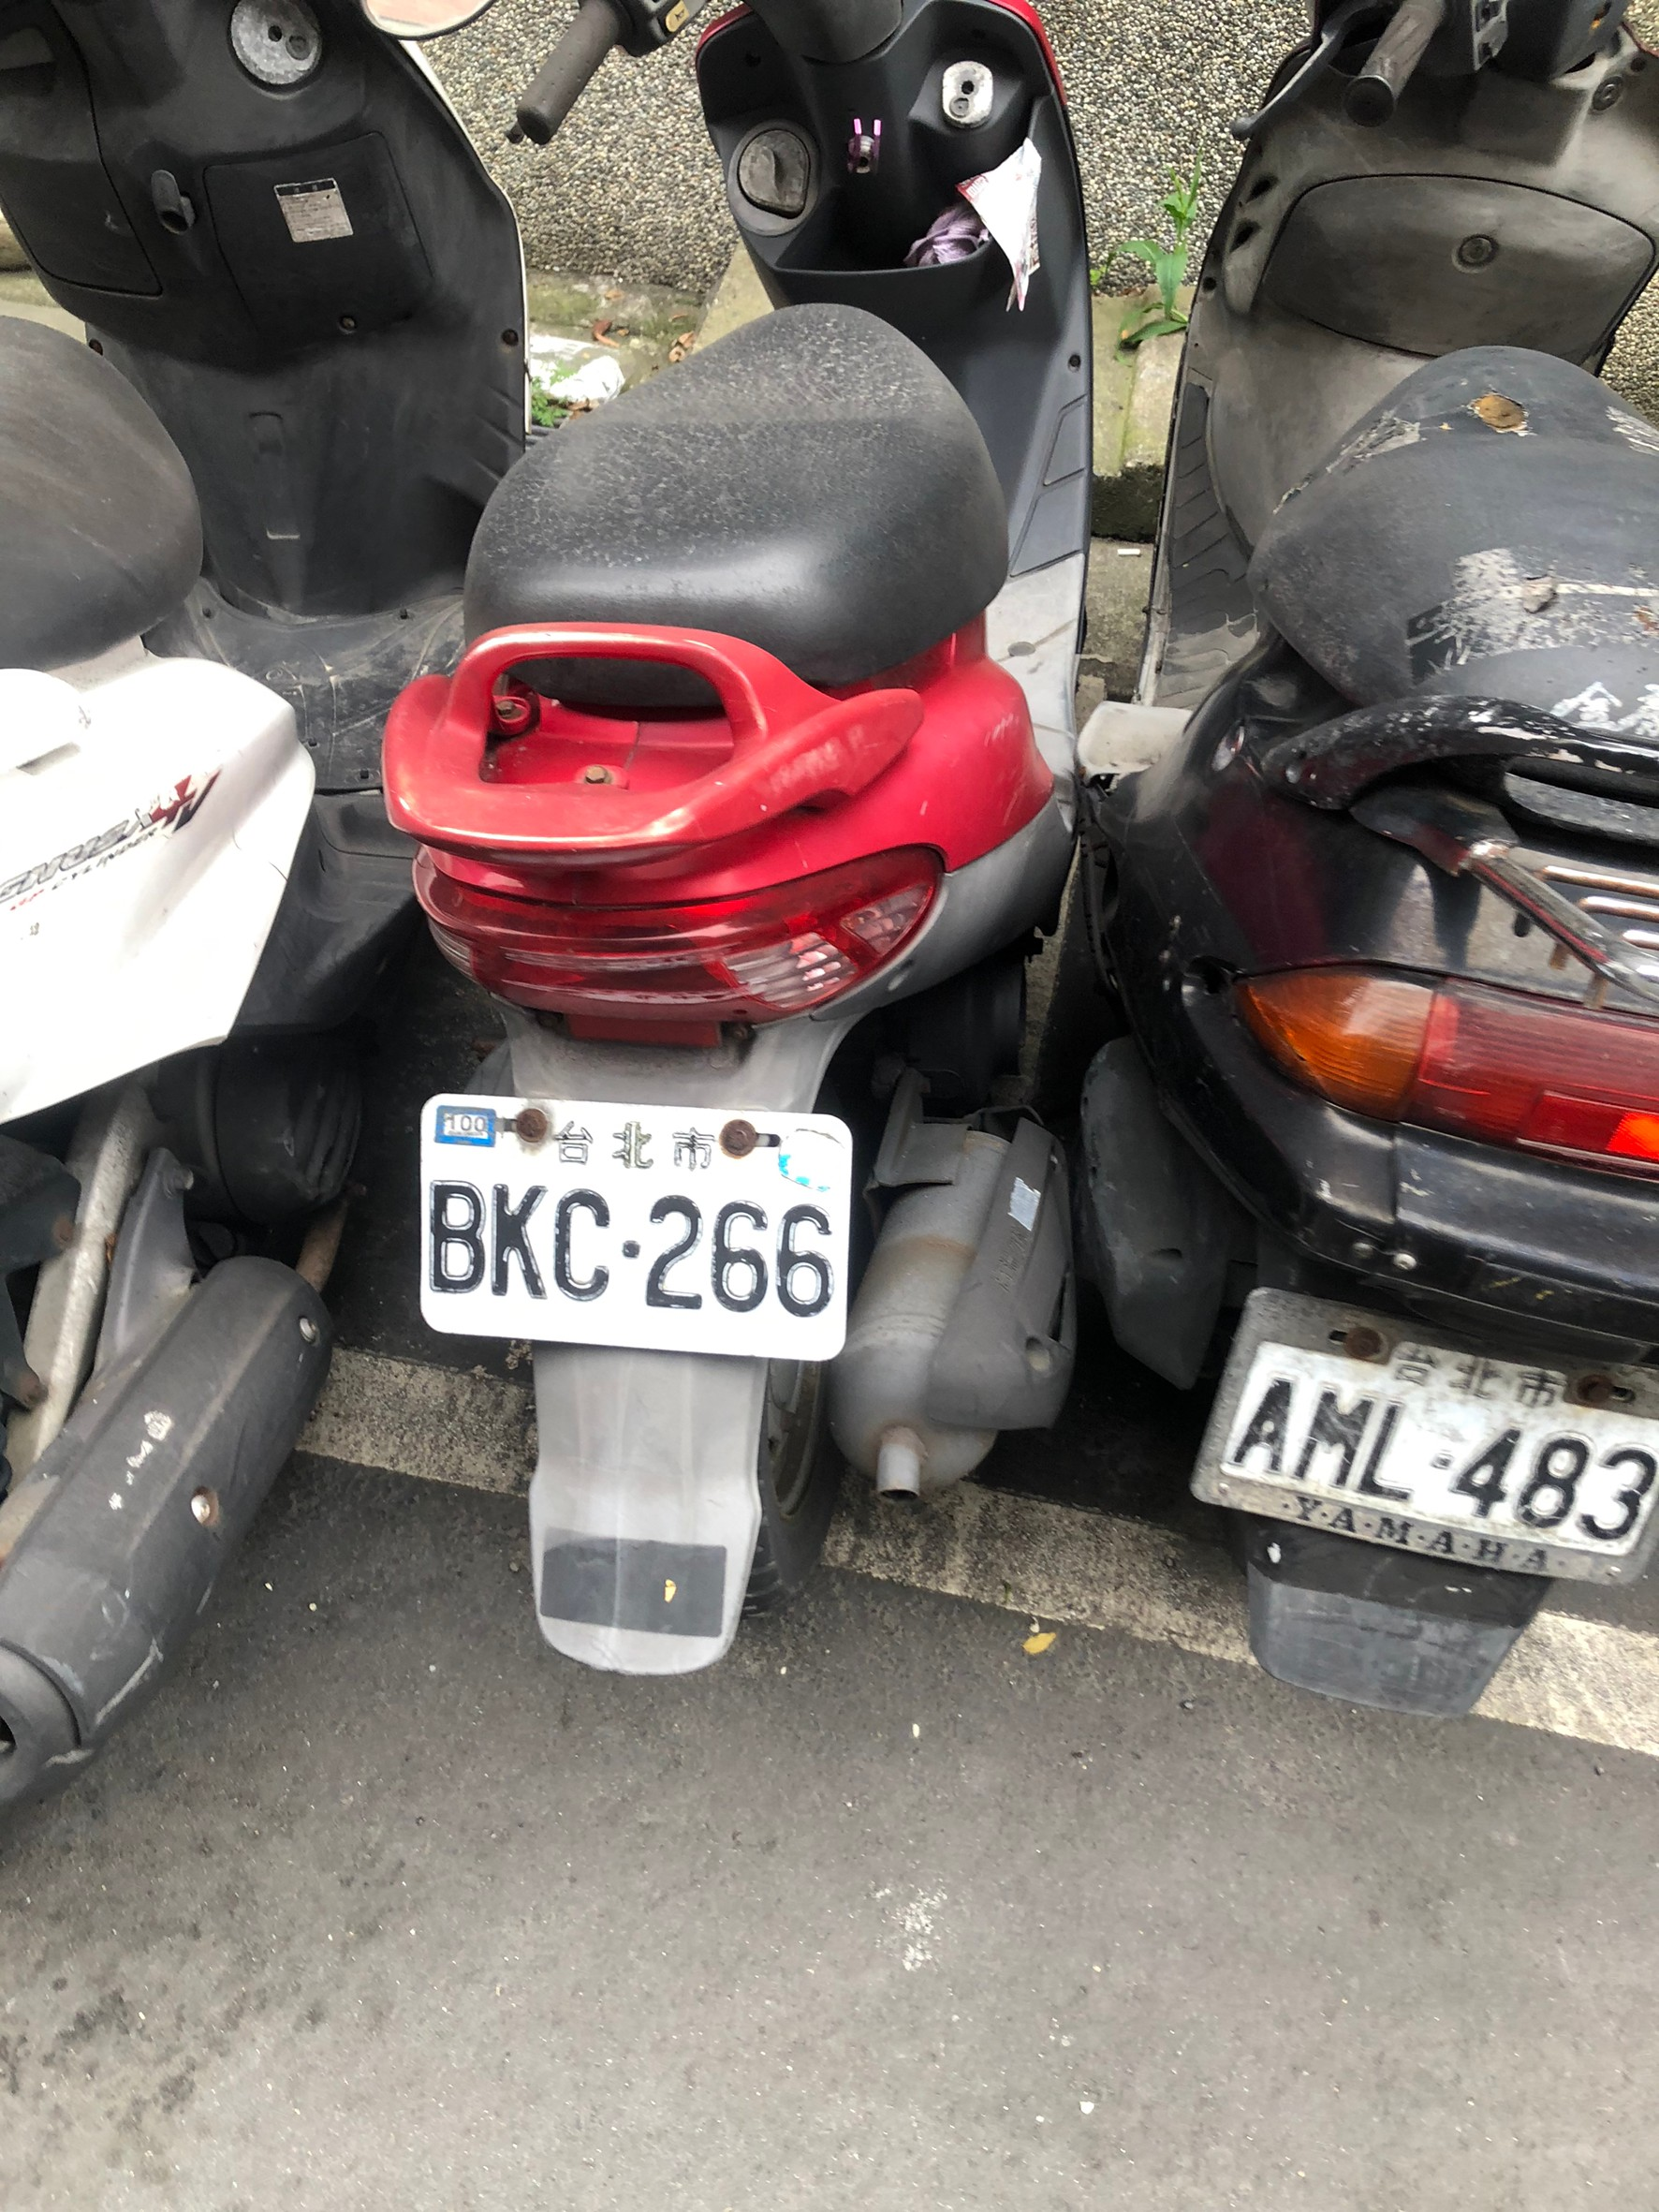LP: (1185, 1286, 1659, 1579), (399, 1079, 854, 1365)
